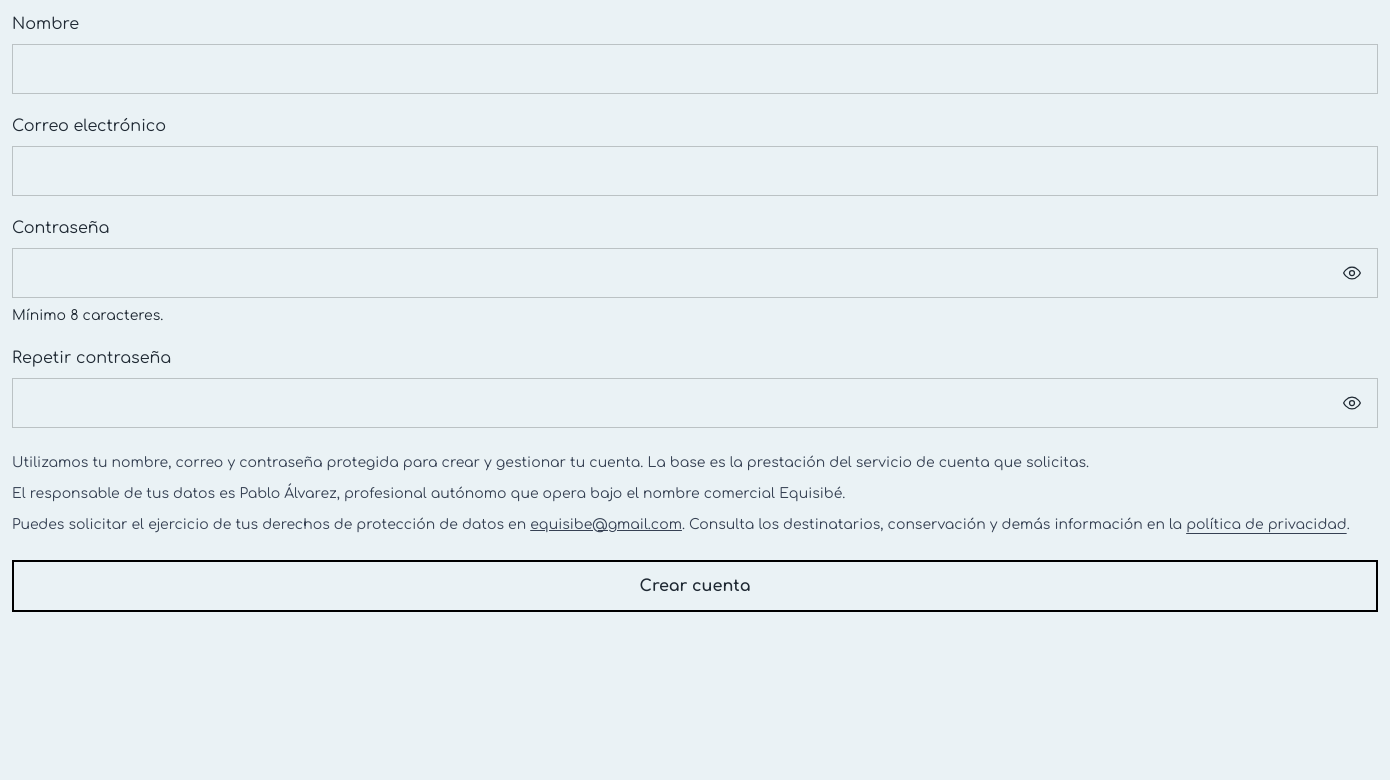
RegisterForm › rejects passwords that do not match and stays on registration
The image size is (1390, 780).
In the field with id "name": (695,69) [12,44,1378,94], type " Andrea "
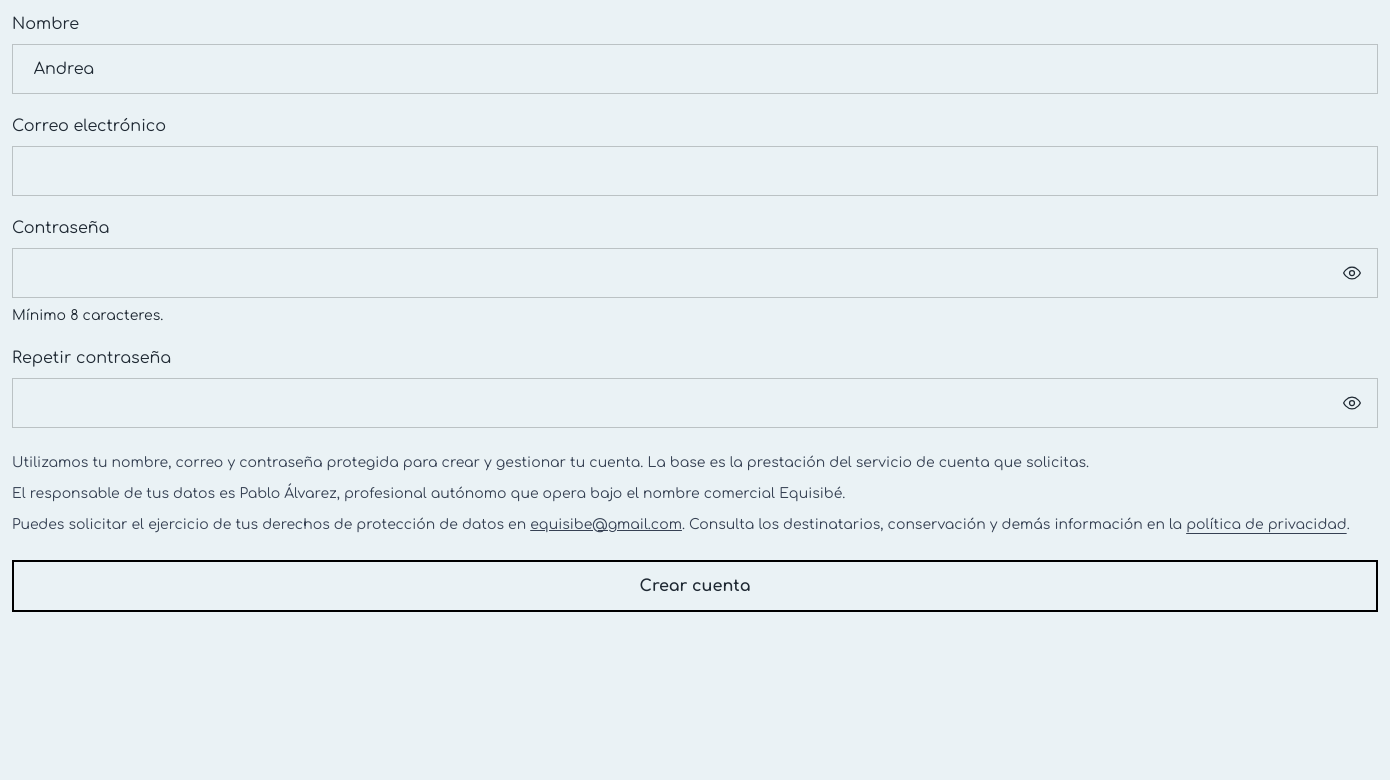
In the field with id "email": (695,171) [12,146,1378,196], type "andrea@example.com"
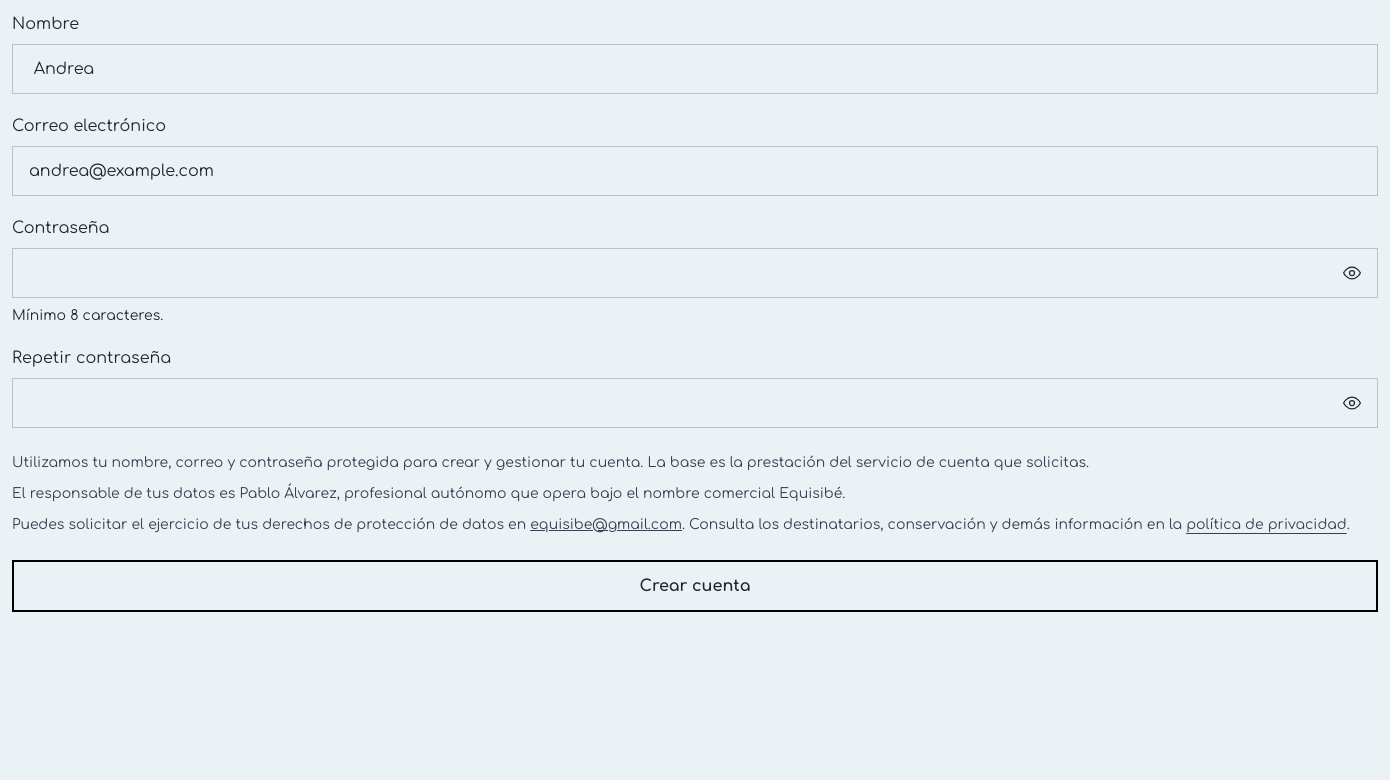
In the password field labelled "Contraseña": (695,273) [12,248,1378,298], type "Password123"
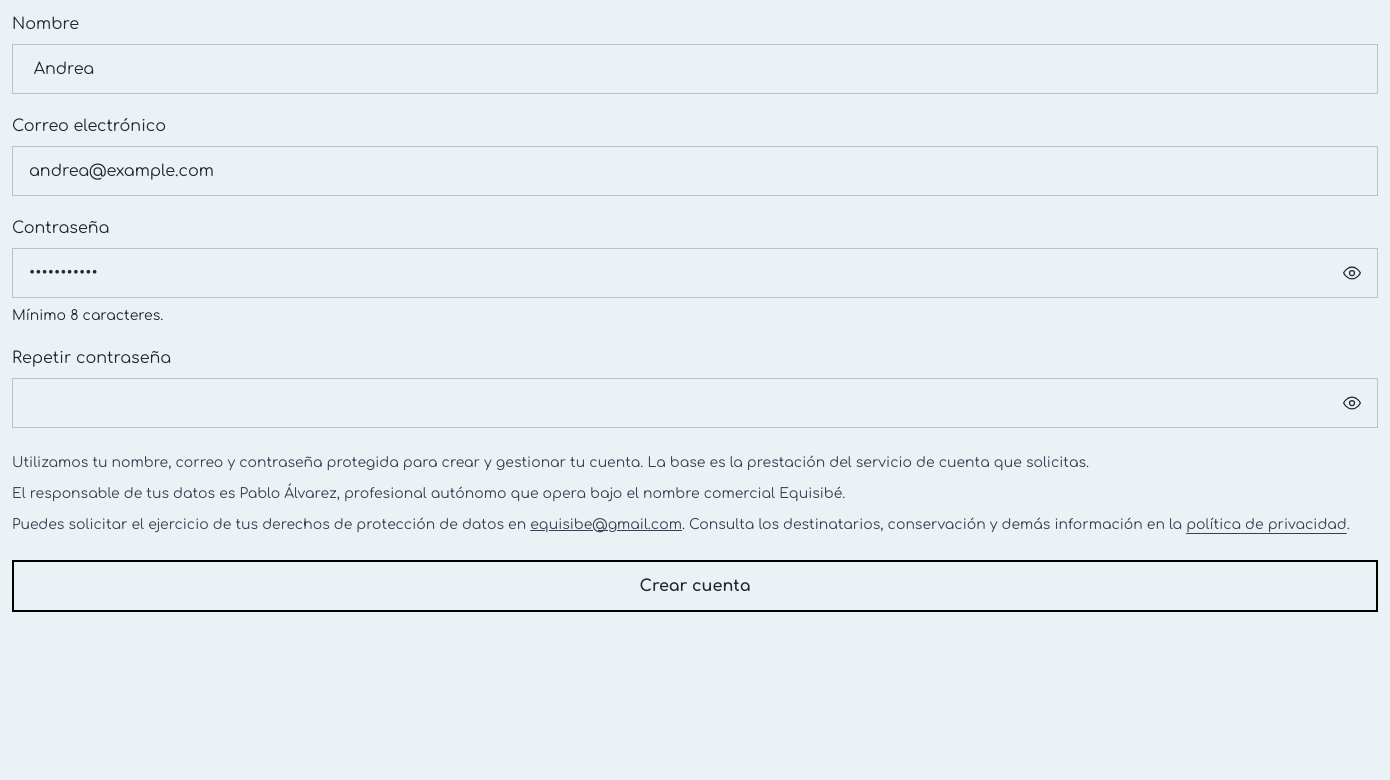
In the password field with id "confirmPassword": (695,403) [12,378,1378,428], type "Password123"
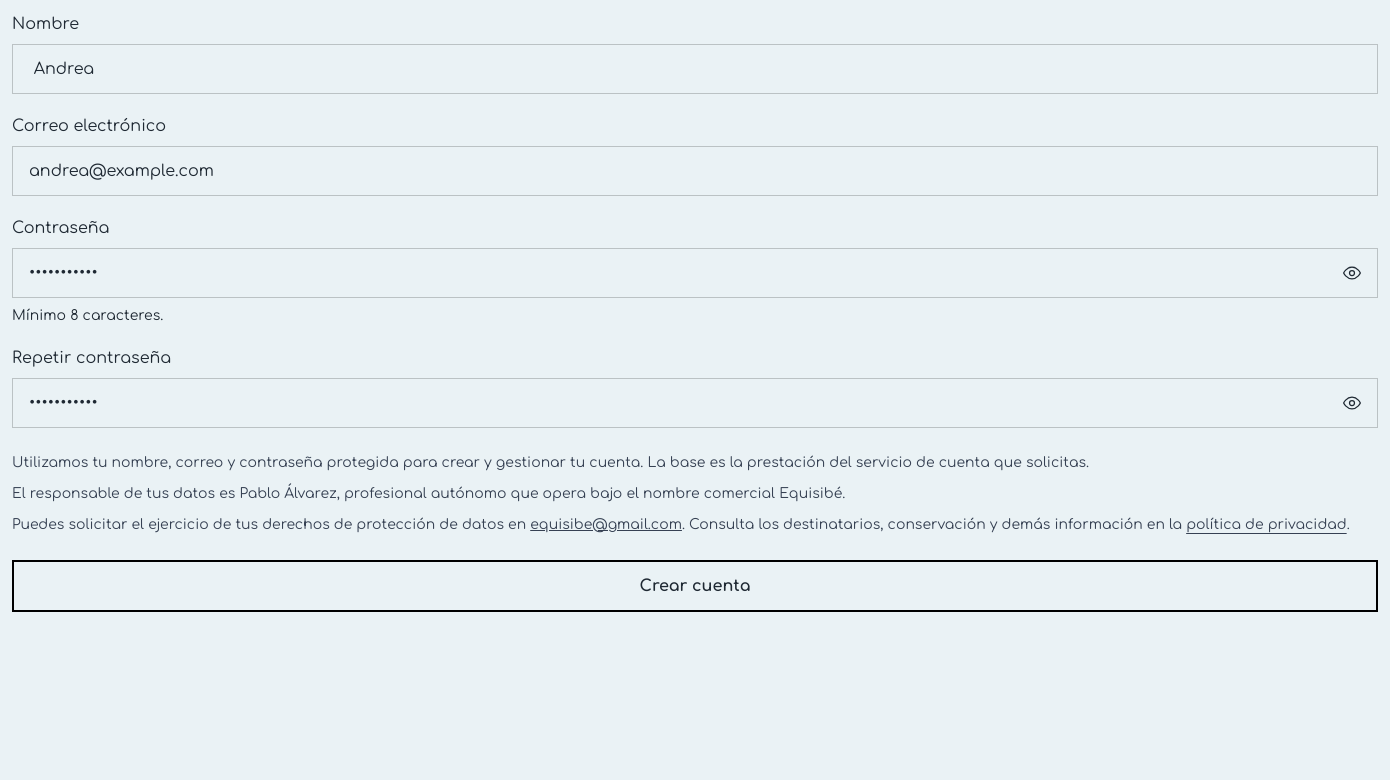
In the password field with id "confirmPassword": (695,403) [12,378,1378,428], type "Different123"
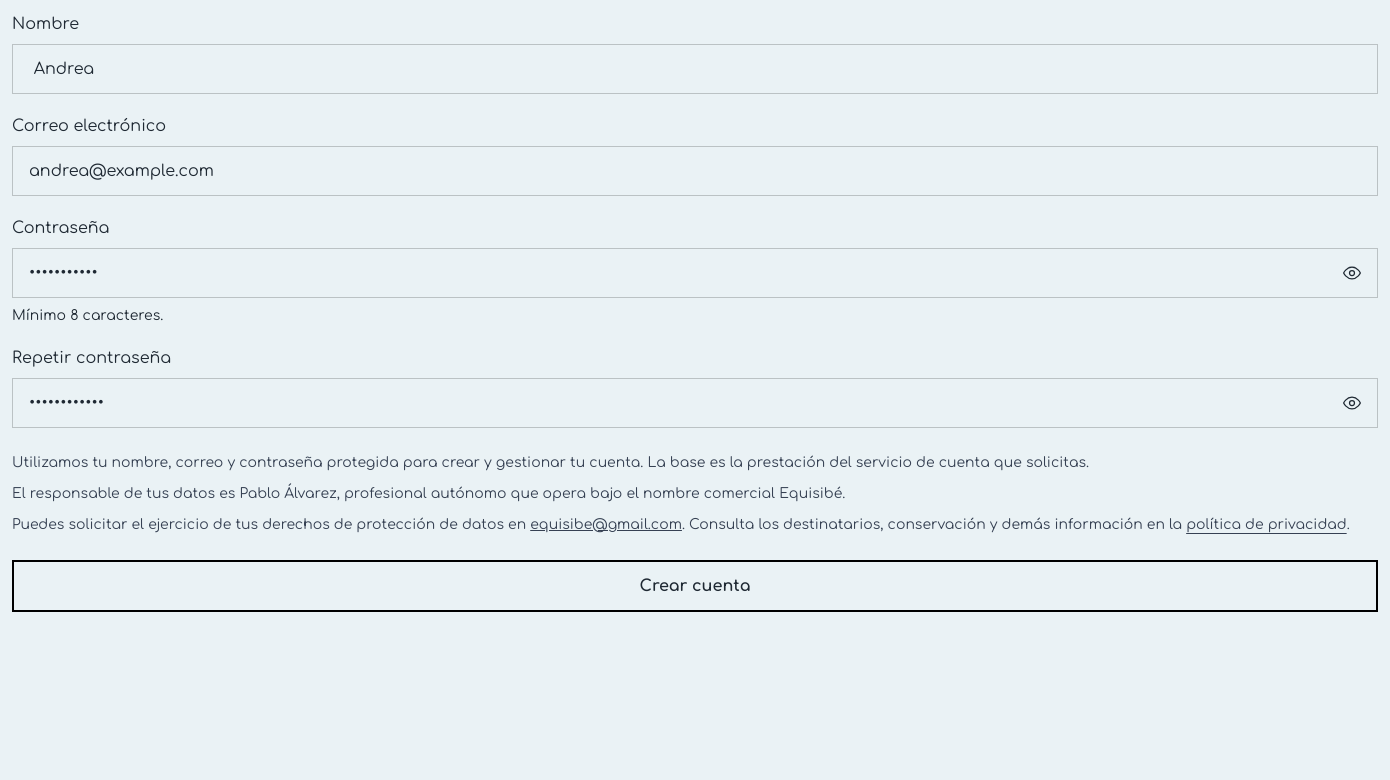
Submit the form
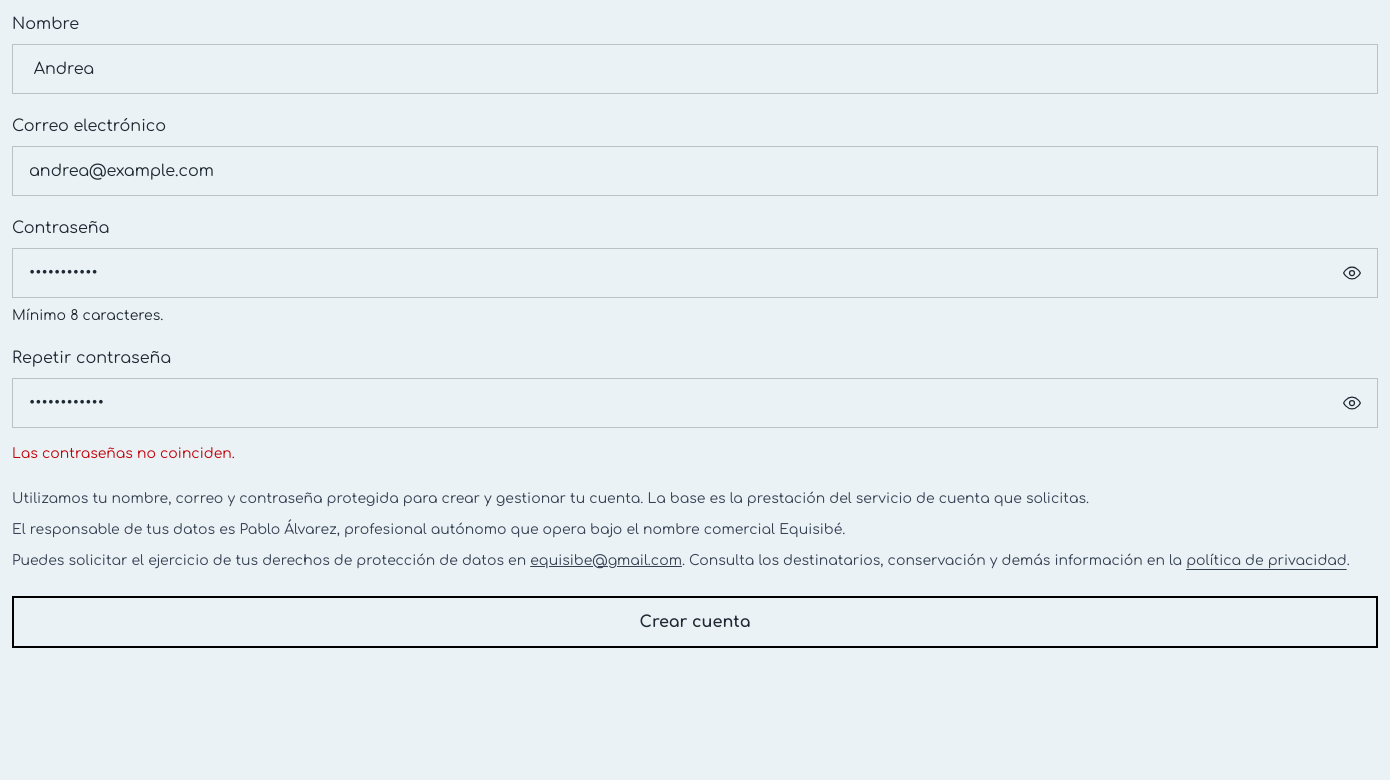
expect the message "Las contraseñas no coinciden." is shown: met, box [12,446,235,461]
